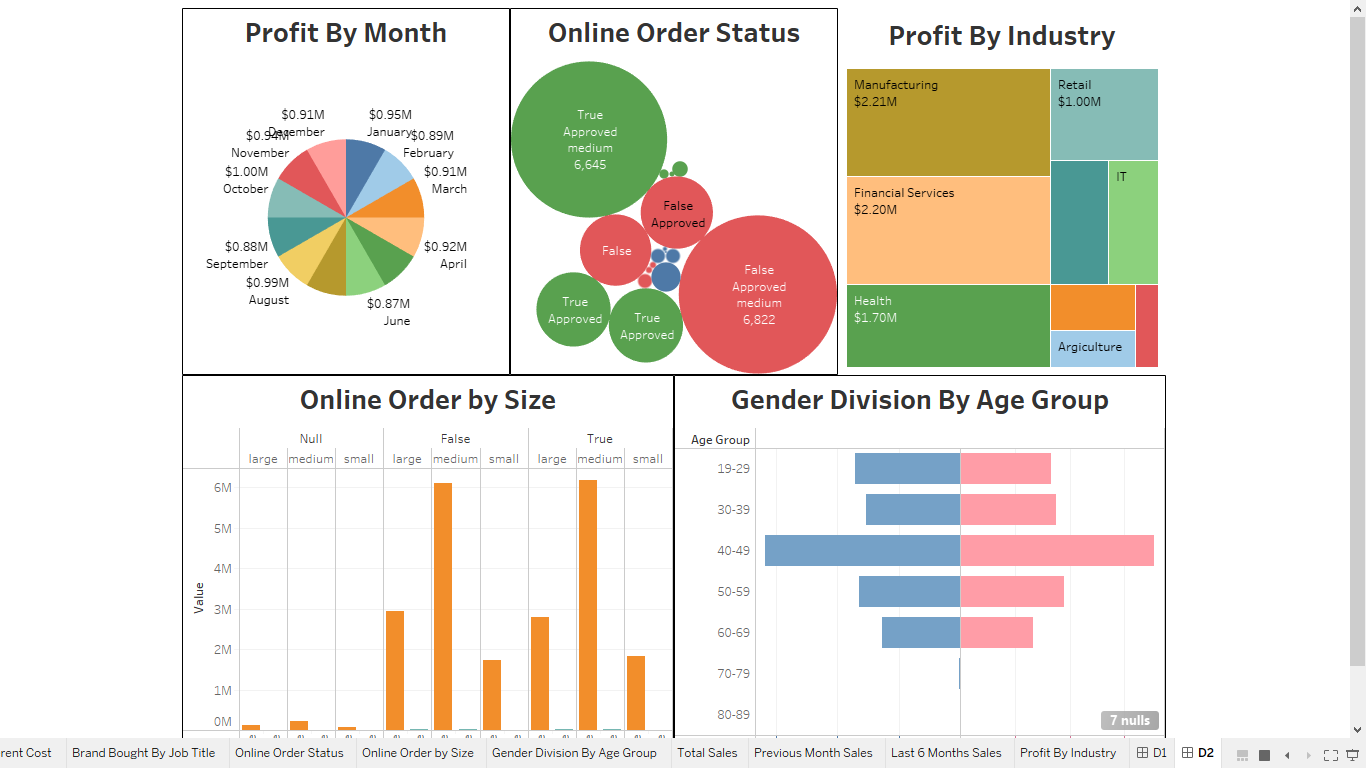

Layout of this report page (visuals, bound fields, positions):
{"tool":"tableau","page":{"name":"D2","canvas":[1000,800],"ordinal":1},"visuals":[{"type":"worksheet","title":"Profit By Month","mark":"Pie","box":[8,8,328,367]},{"type":"worksheet","title":"Online Order Status","mark":"Circle","box":[336,8,328,367]},{"type":"worksheet","title":"Profit By Industry","mark":"Automatic","box":[664,8,328,367]},{"type":"worksheet","title":"Online Order by Size","mark":"Automatic","cols":["online_order","product_size"],"box":[8,375,492,417]},{"type":"worksheet","title":"Gender Division By Age Group","mark":"Automatic","rows":["Calculation_415175609448853504"],"cols":["Calculation_540713449263218688","vtsum"],"box":[500,375,492,417]}]}

Visuals, with their boxes on the page's 1000x800 design canvas (x1, y1, x2, y2). These are canvas units, not pixel positions in the 1366x768 screenshot, which may show the page scaled, cropped or inside an application window:
"Profit By Month" worksheet (Pie marks): 8, 8, 336, 375
"Online Order Status" worksheet (Circle marks): 336, 8, 664, 375
"Profit By Industry" worksheet: 664, 8, 992, 375
"Online Order by Size" worksheet: 8, 375, 500, 792
"Gender Division By Age Group" worksheet: 500, 375, 992, 792
